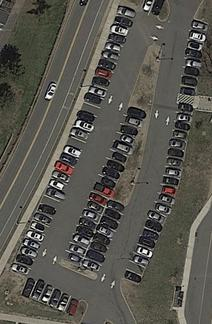parkingspot: (10, 4, 139, 278), (62, 106, 146, 268), (121, 102, 194, 285), (79, 198, 128, 276), (176, 16, 209, 97), (20, 276, 82, 316), (138, 0, 165, 20)
